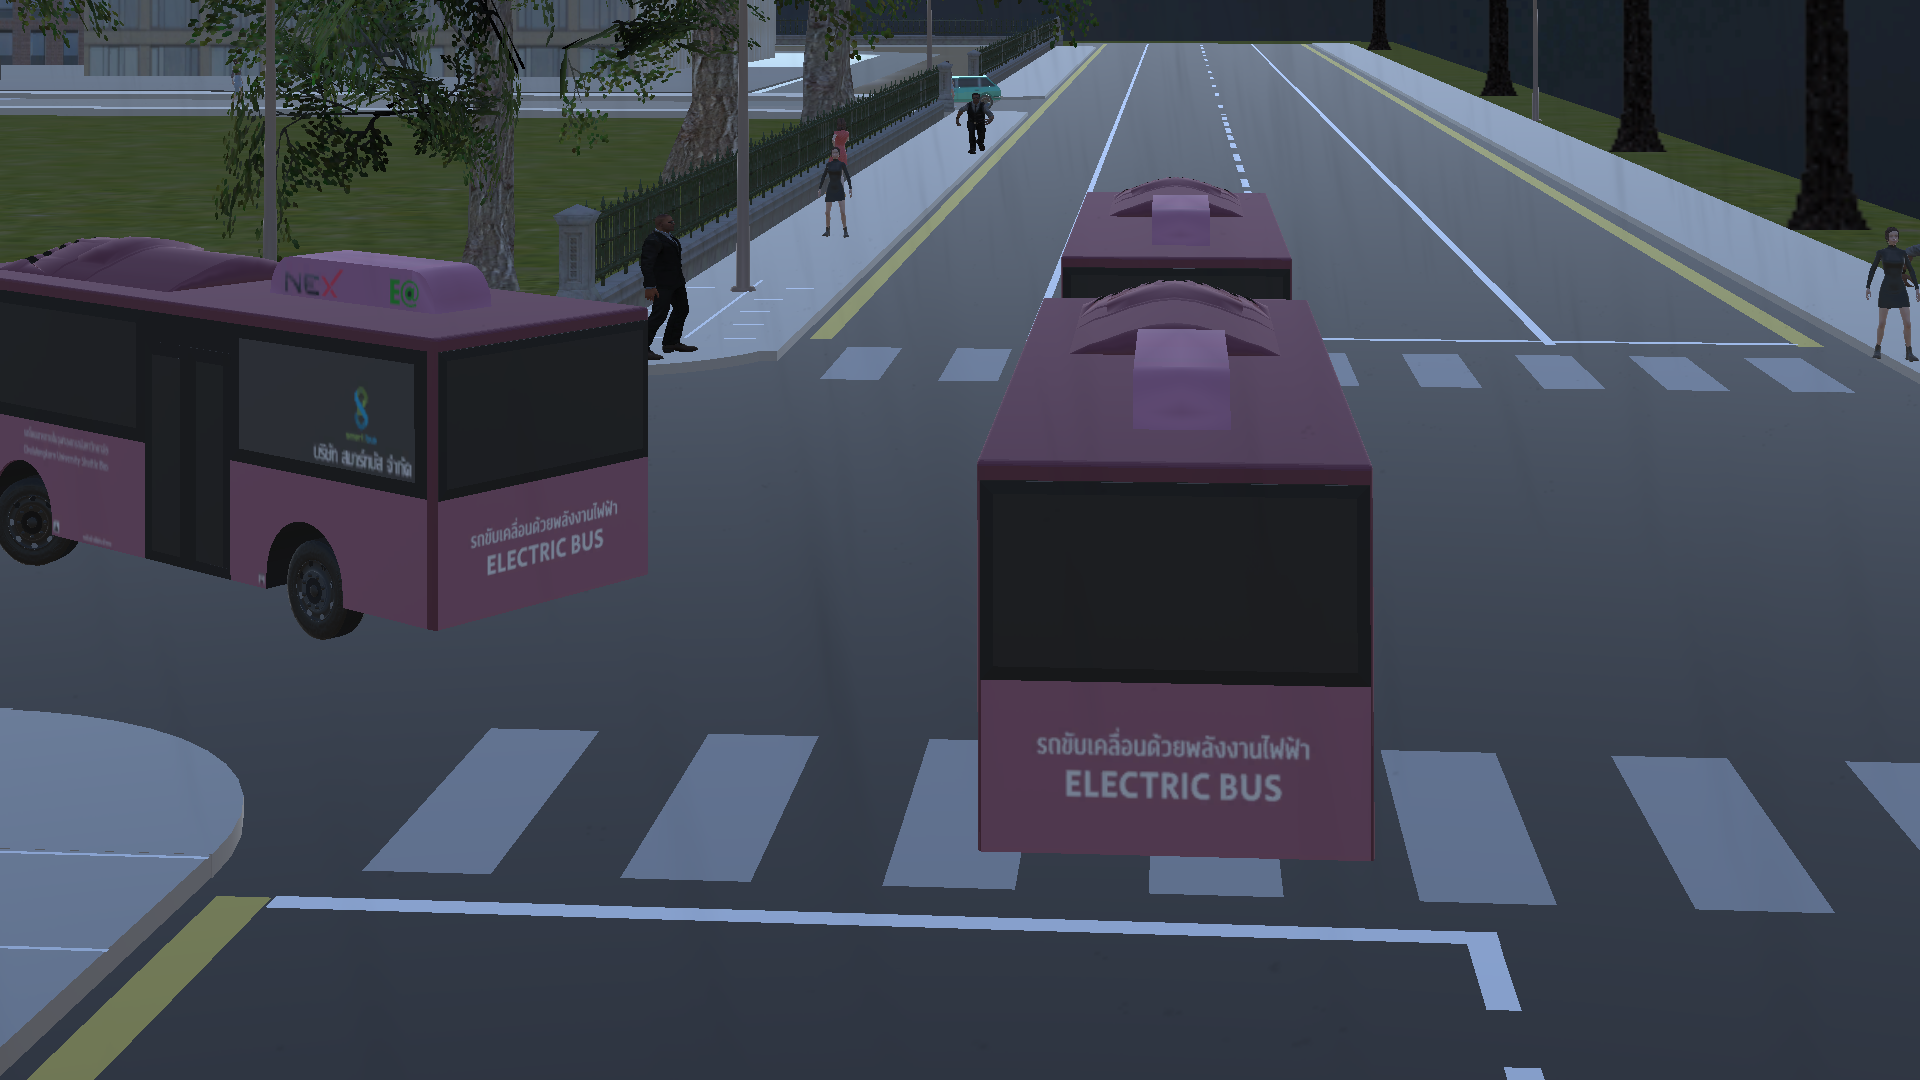pedestrian: (625, 193, 703, 363), (1857, 212, 1920, 368), (820, 139, 858, 239), (959, 87, 996, 156)
